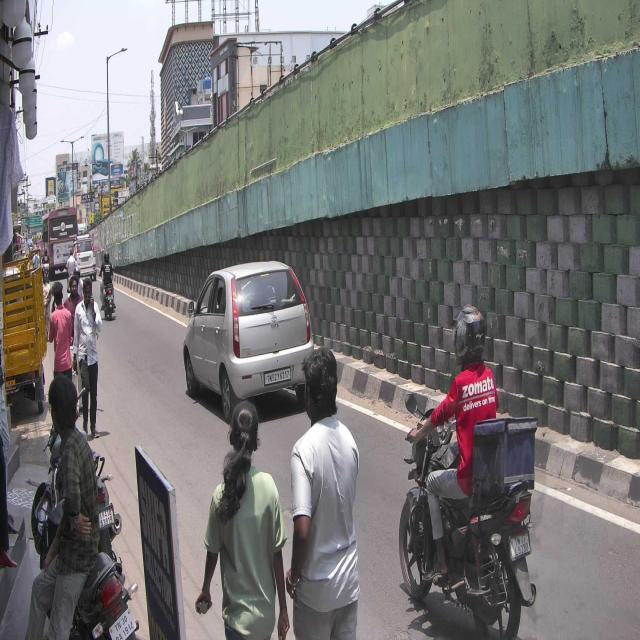single_rider: (398, 303, 538, 640)
